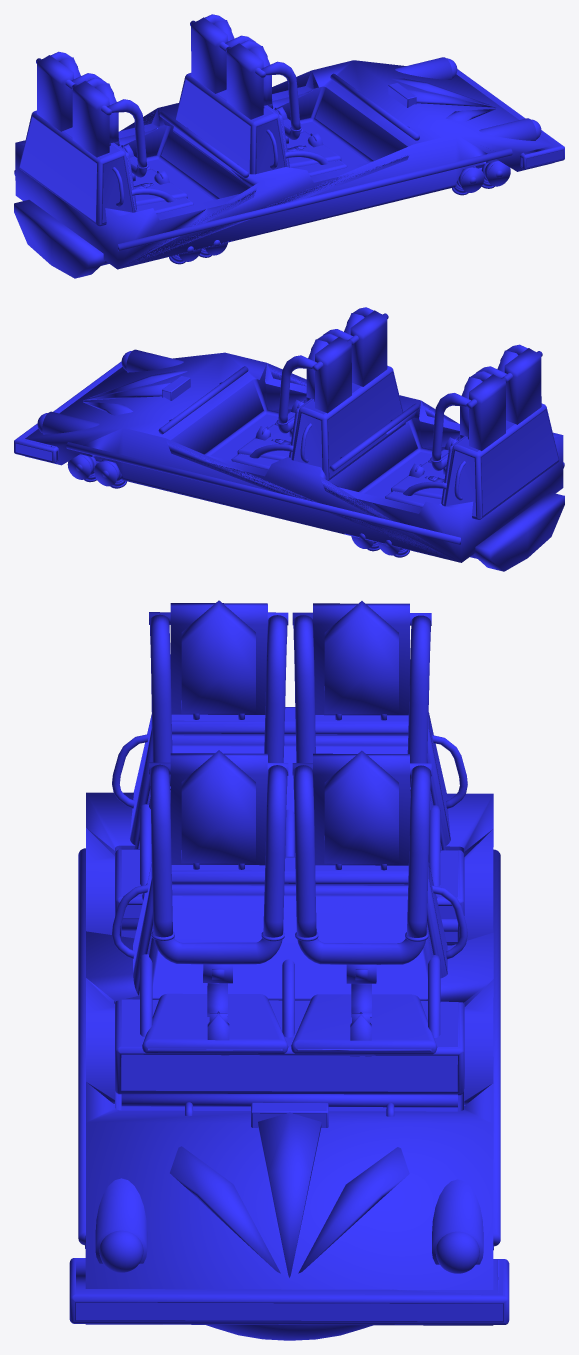
The picture shows the model from 3 angles, top to bottom: view 1: azimuth 30°, elevation 25°; view 2: azimuth 150°, elevation 25°; view 3: azimuth 270°, elevation 25°; orthographic projection. The views are drawn at different scales.
Visible parts, largest first — view 1: cart; view 2: cart; view 3: cart.
Boxes of the visible parts, x1,y1,x2,y2 form: cart: [14, 14, 564, 278]; cart: [14, 307, 564, 571]; cart: [69, 600, 509, 1340].
Size of the model in its own units: 1.64 by 0.6317 by 0.6801.
